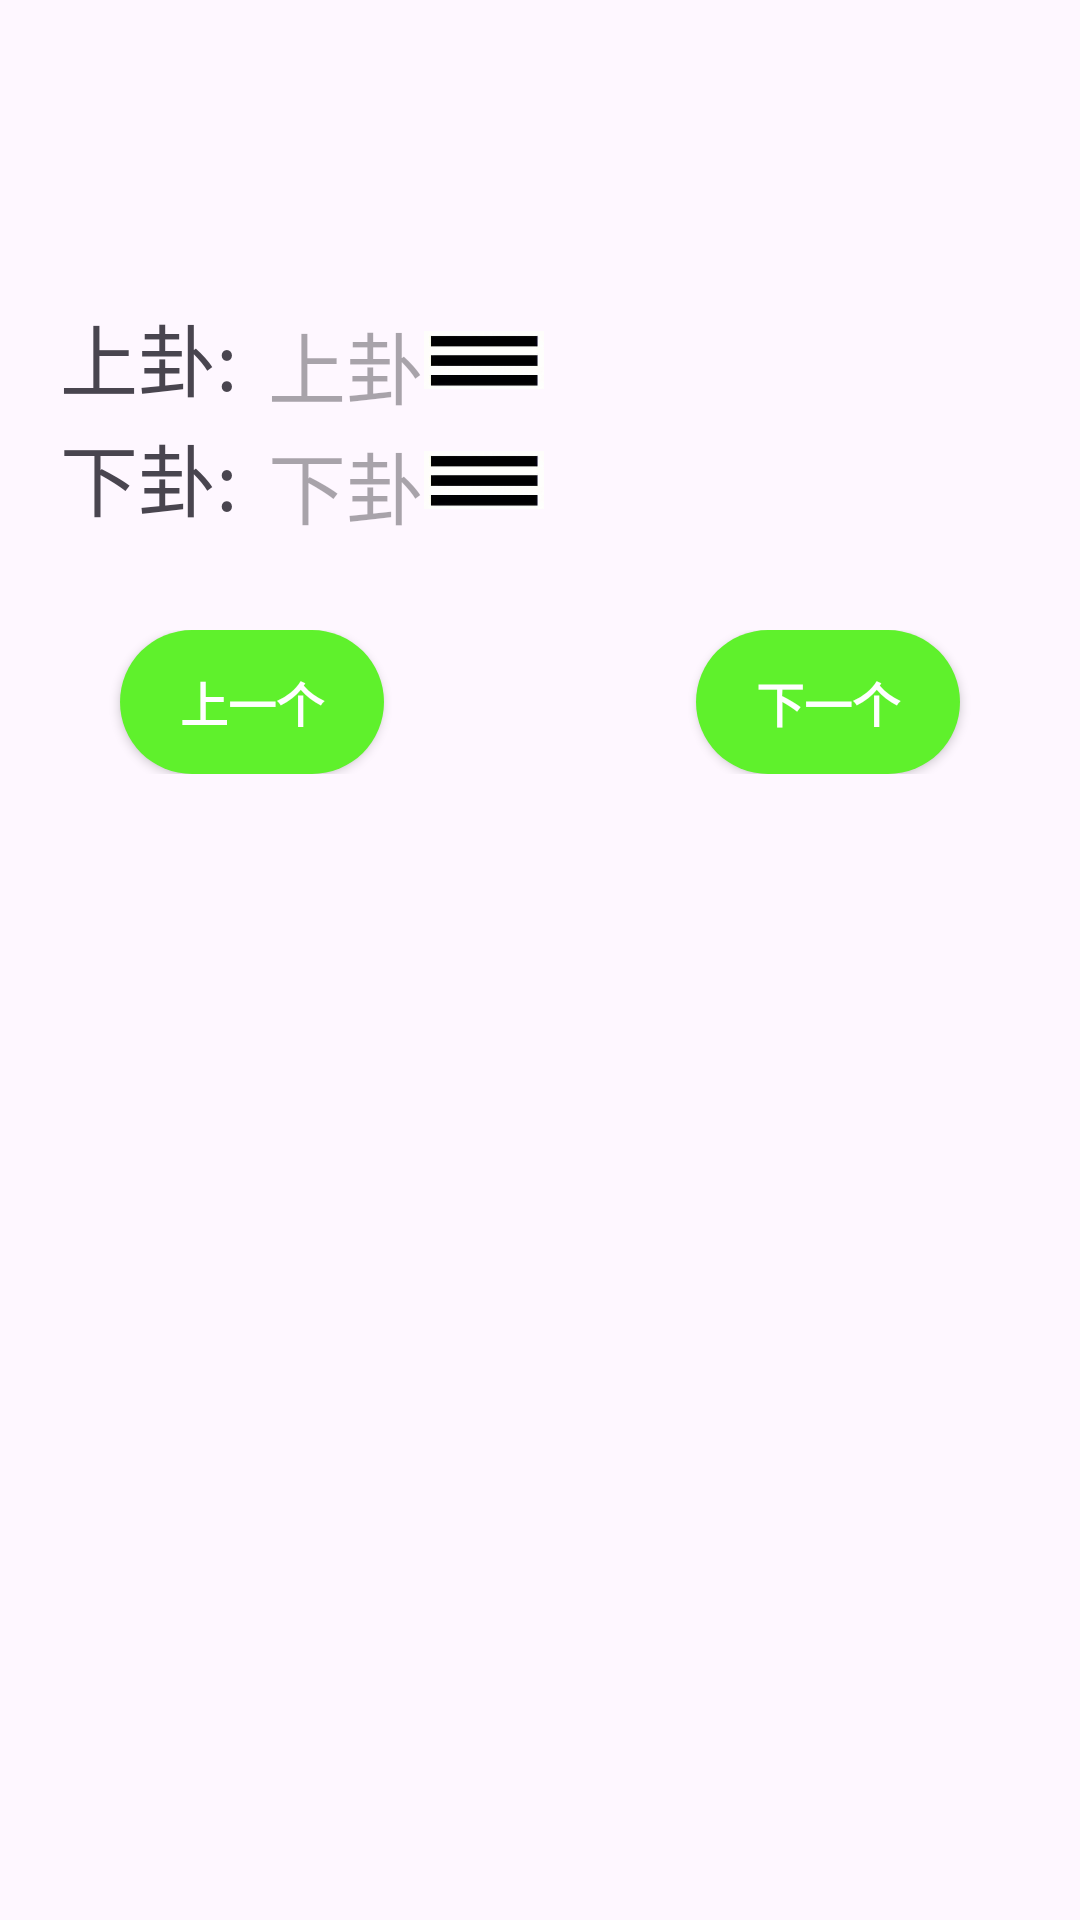

Icons on this 1080 × 1920 Android screen, each with its box as (x1, y1, x2, y2):
qian: (431, 336, 538, 386), (431, 456, 538, 506)
